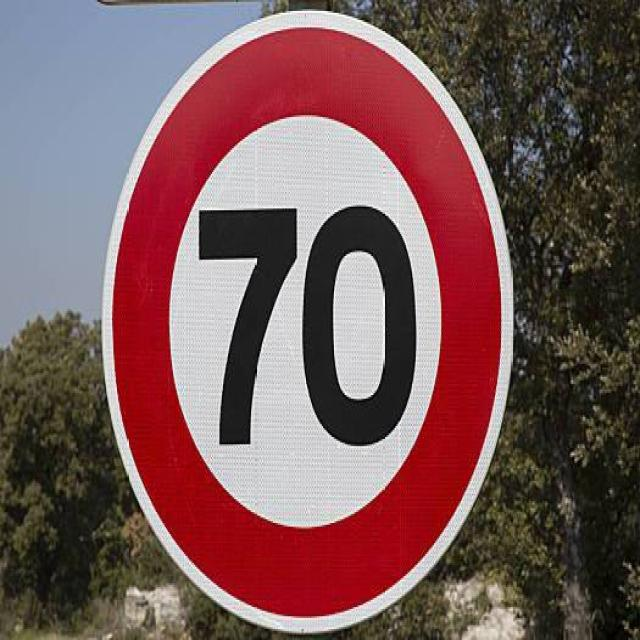speed limit 70: (101, 8, 513, 636)
